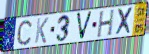3: (55, 14, 74, 44)
C: (16, 19, 33, 47)
H: (96, 8, 116, 39)
K: (34, 17, 50, 45)
V: (75, 11, 94, 42)
X: (114, 6, 134, 37)
